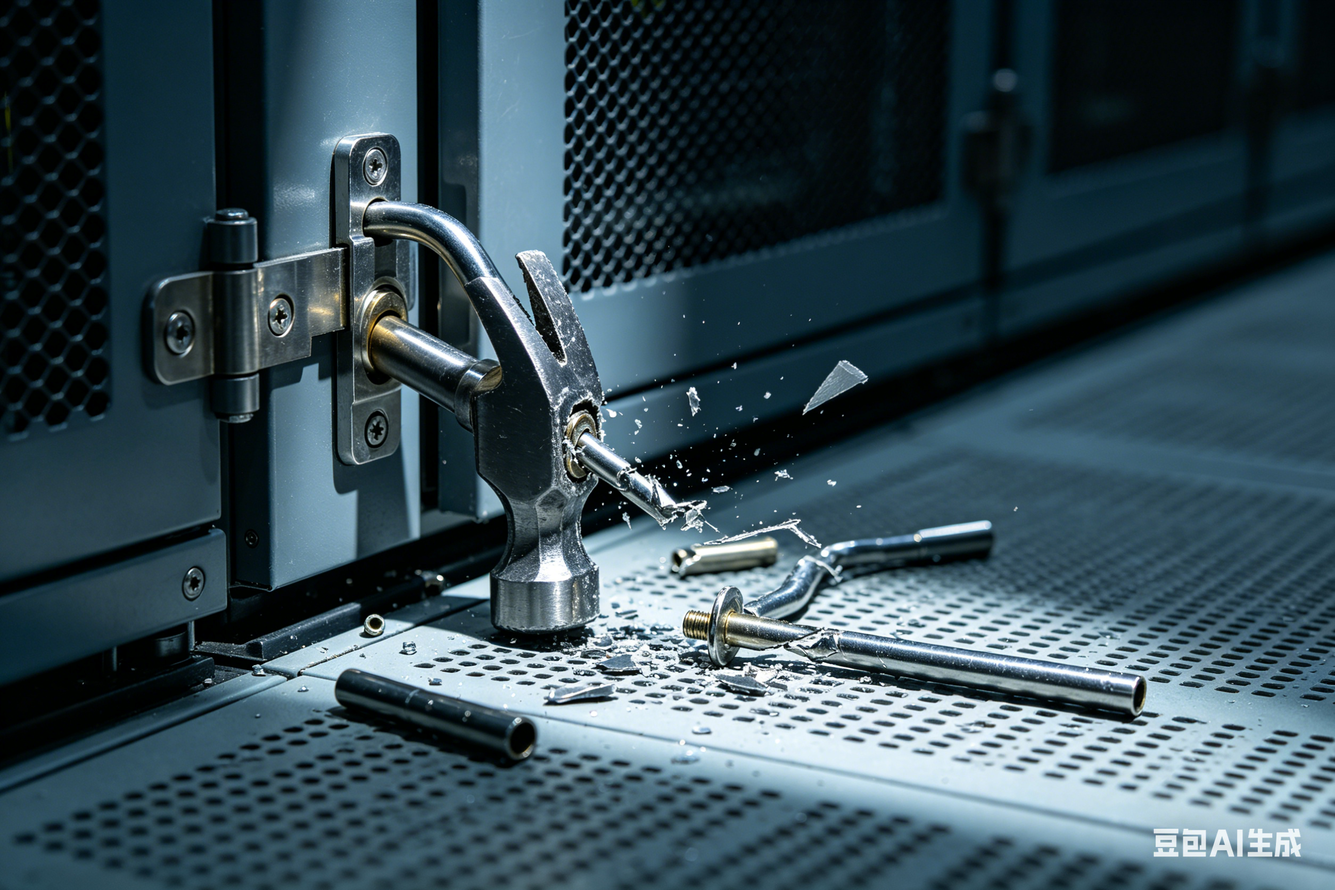BadLock: (535, 376, 812, 675)
